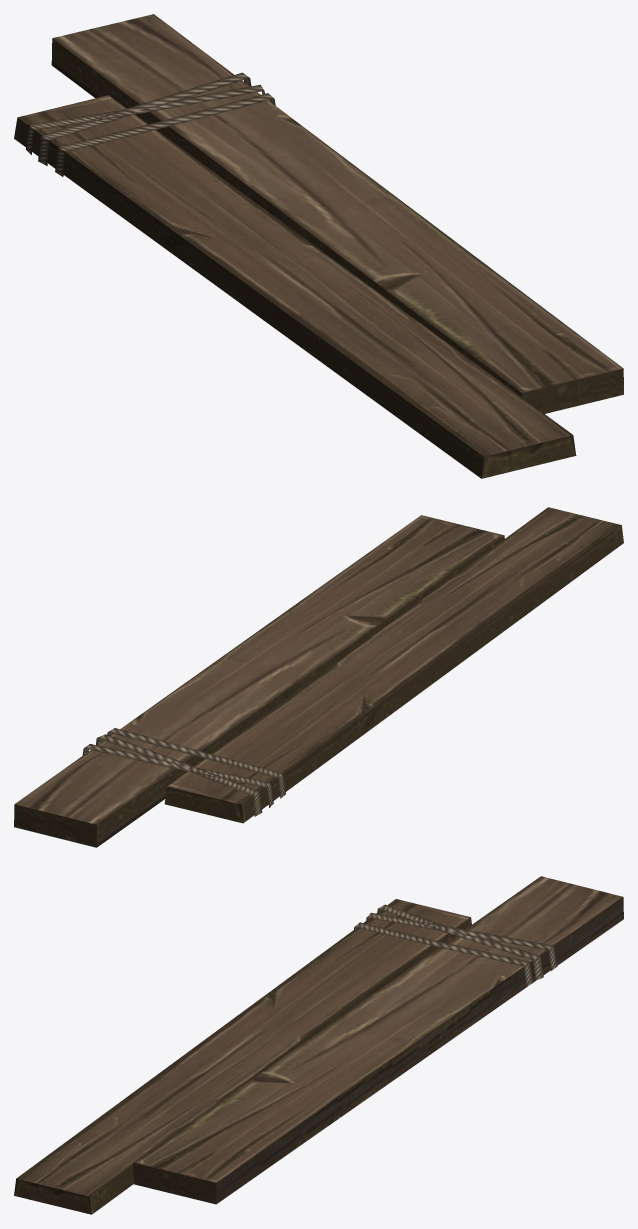
Rendered from fld_qiao04_z.FBX.
The picture shows the model from 3 angles, top to bottom: view 1: azimuth 30°, elevation 25°; view 2: azimuth 150°, elevation 25°; view 3: azimuth 330°, elevation 25°; orthographic projection. The views are drawn at different scales.
Visible parts, largest first — view 1: fld_qiao04_z; view 2: fld_qiao04_z; view 3: fld_qiao04_z.
Boxes of the visible parts, left/top/right/bottom form: fld_qiao04_z: left=14, top=14, right=623, bottom=478; fld_qiao04_z: left=14, top=507, right=623, bottom=847; fld_qiao04_z: left=14, top=876, right=623, bottom=1214.
Bounding box in the file's own units: 15.66 × 2.16 × 66.08.
